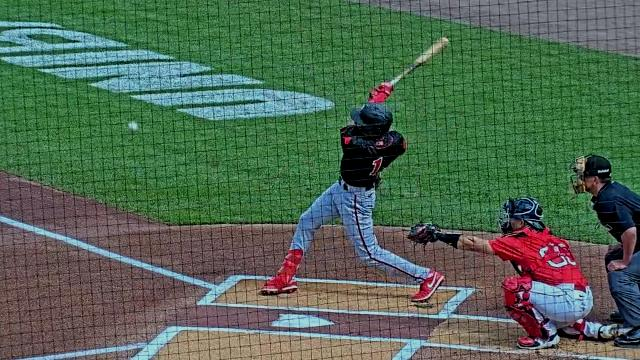ball: (128, 121, 140, 133)
bat: (392, 36, 450, 86)
